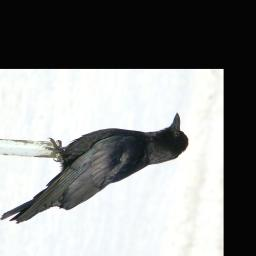Crow: (0, 98, 193, 238)
